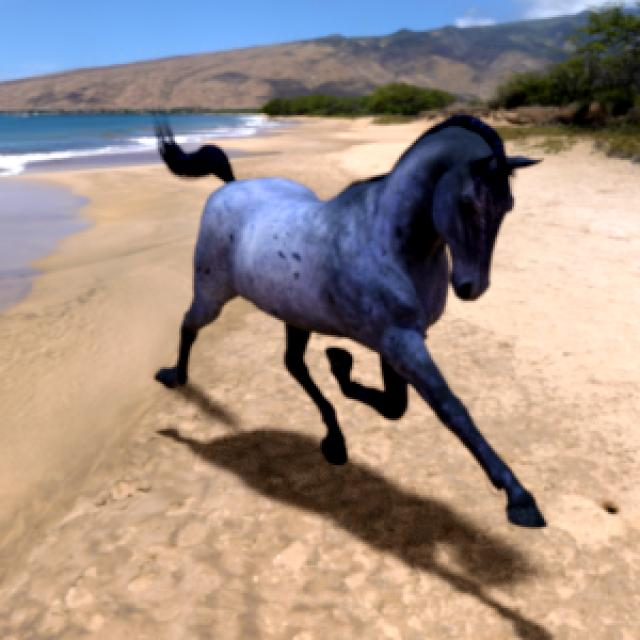horse: (156, 115, 545, 527)
